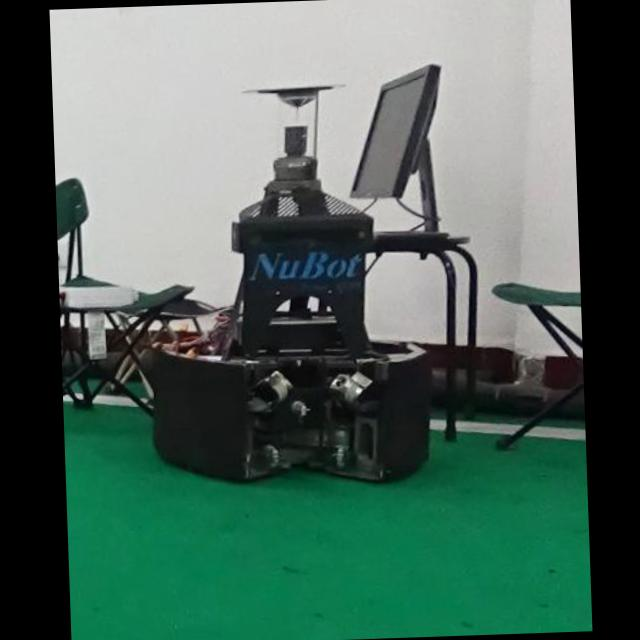robot: (151, 89, 428, 480)
